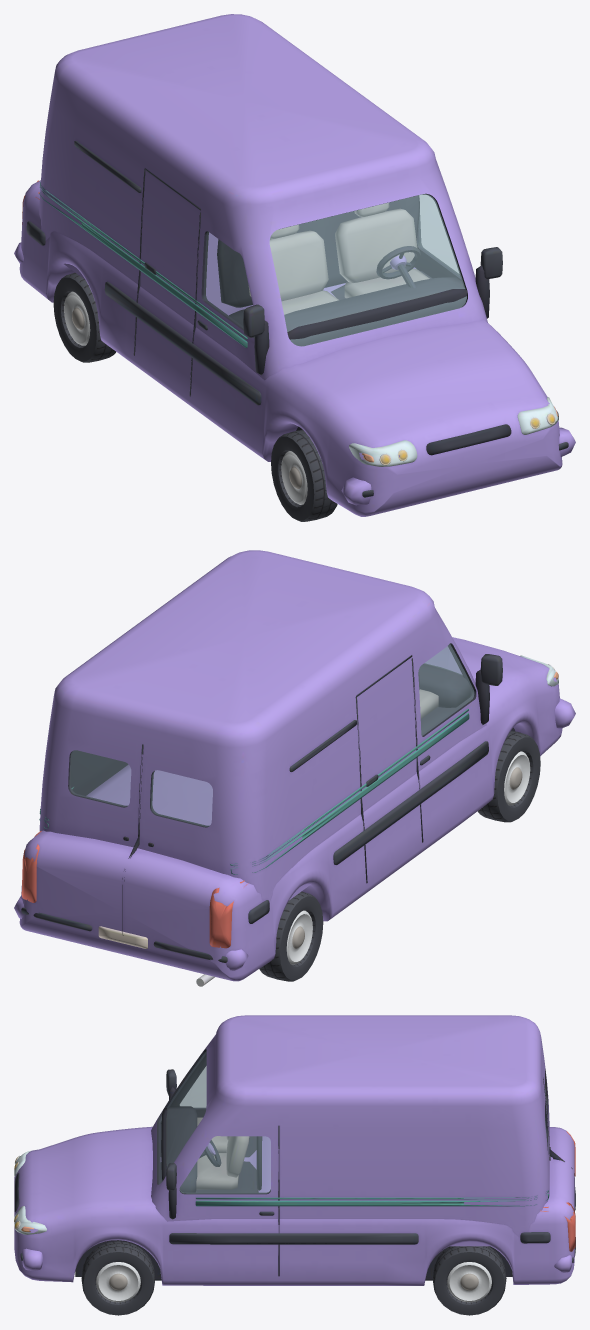
File: 1990s-delivery-van.glb
The picture shows the model from 3 angles, top to bottom: view 1: azimuth 30°, elevation 25°; view 2: azimuth 150°, elevation 25°; view 3: azimuth 270°, elevation 25°; orthographic projection. The views are drawn at different scales.
Visible parts, largest first — view 1: 1990s-delivery-van_body, 1990s-delivery-van_windows, 1990s-delivery-van_wheel_fr, 1990s-delivery-van_wheel_rr; view 2: 1990s-delivery-van_body, 1990s-delivery-van_windows, 1990s-delivery-van_wheel_fr, 1990s-delivery-van_wheel_rr; view 3: 1990s-delivery-van_body, 1990s-delivery-van_windows, 1990s-delivery-van_wheel_fl, 1990s-delivery-van_wheel_rl.
Boxes of the visible parts, x1=… form: 1990s-delivery-van_body: x1=14, y1=14, x2=575, y2=516; 1990s-delivery-van_windows: x1=204, y1=194, x2=466, y2=346; 1990s-delivery-van_wheel_fr: x1=271, y1=429, x2=337, y2=521; 1990s-delivery-van_wheel_rr: x1=53, y1=272, x2=115, y2=362; 1990s-delivery-van_body: x1=14, y1=550, x2=575, y2=986; 1990s-delivery-van_windows: x1=69, y1=644, x2=473, y2=826; 1990s-delivery-van_wheel_fr: x1=477, y1=730, x2=540, y2=822; 1990s-delivery-van_wheel_rr: x1=259, y1=891, x2=323, y2=981; 1990s-delivery-van_body: x1=14, y1=1015, x2=575, y2=1285; 1990s-delivery-van_windows: x1=159, y1=1051, x2=545, y2=1193; 1990s-delivery-van_wheel_fl: x1=81, y1=1241, x2=155, y2=1315; 1990s-delivery-van_wheel_rl: x1=432, y1=1246, x2=506, y2=1315.
Size of the model in its own units: 2.07 by 2.11 by 4.87.
18 materials, 5 textured.
